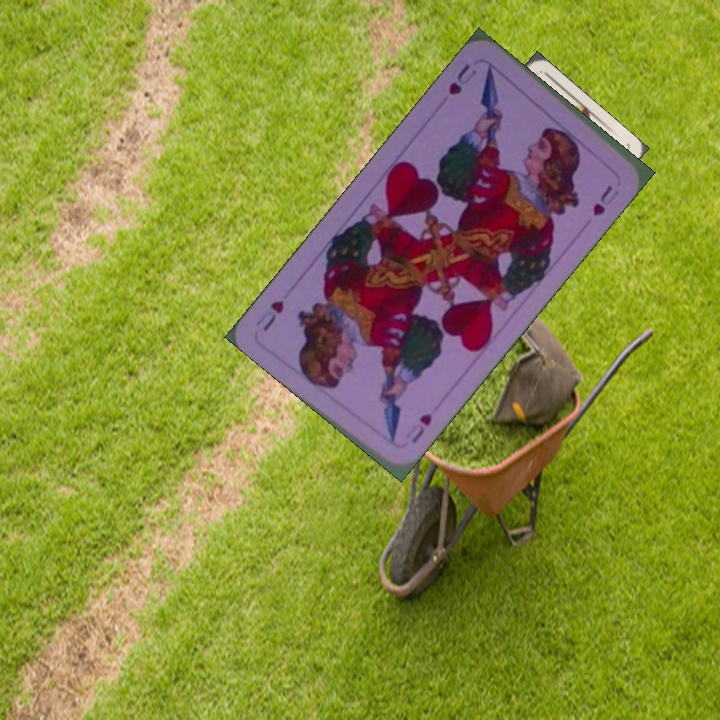HU: (444, 59, 479, 98), (401, 408, 435, 446)
